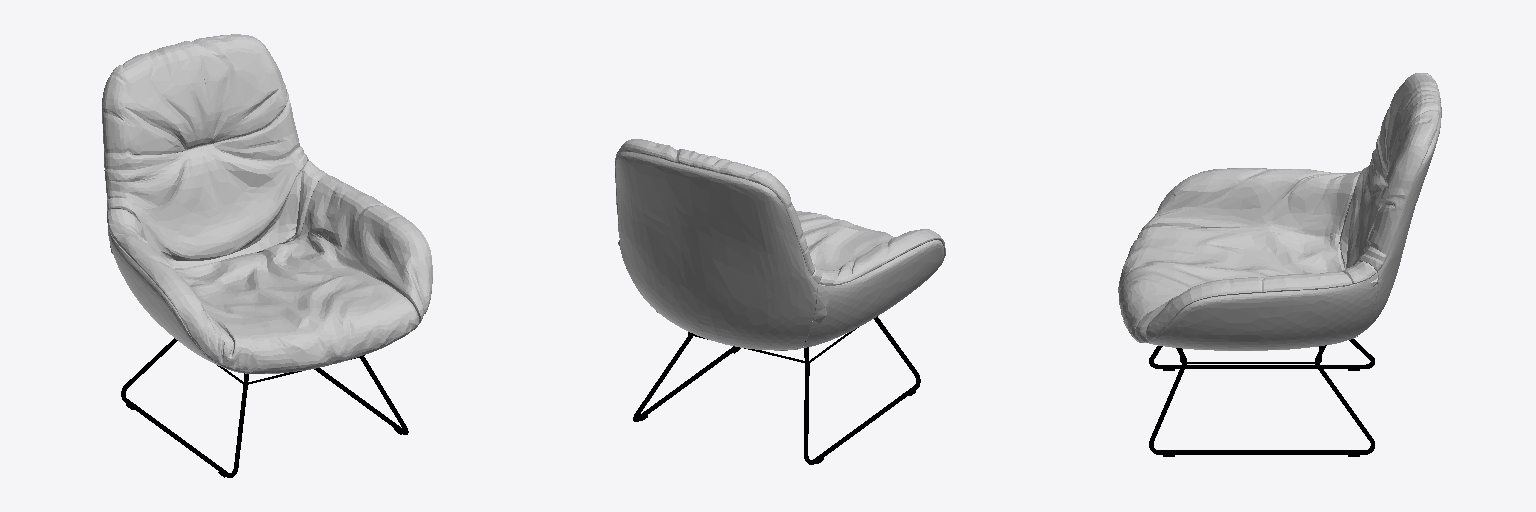
The model's file is leatherseat.obj.
3 renders of one model, left to right at view 1: azimuth 30°, elevation 25°; view 2: azimuth 150°, elevation 25°; view 3: azimuth 270°, elevation 25°, orthographic.
Parts seen in each view (by area): view 1: b, a; view 2: b, a; view 3: b, a.
Part boxes in pixels (x1,y1,x2,y2): b: (102, 34, 432, 373); a: (121, 338, 408, 477); b: (615, 139, 945, 350); a: (633, 316, 920, 464); b: (1118, 73, 1441, 350); a: (1149, 339, 1374, 456).
Bounding box in the file's own units: 761 × 883 × 824.